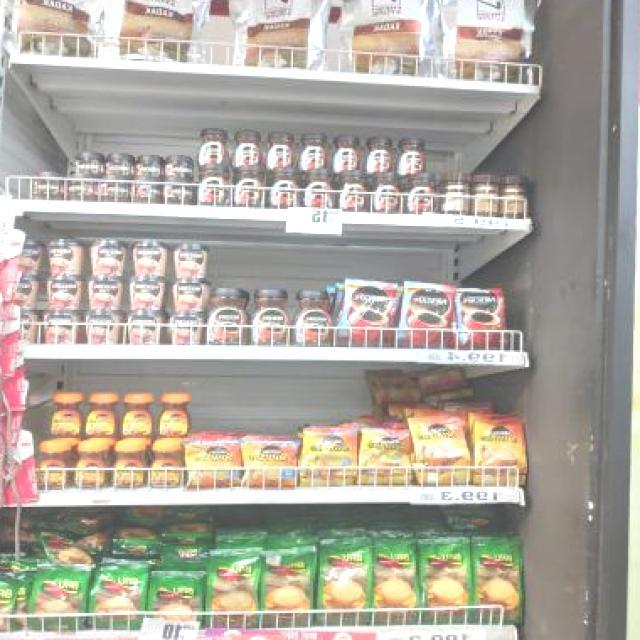Coffee: (414, 420, 470, 486), (473, 418, 526, 485), (340, 282, 394, 345), (398, 285, 452, 347), (304, 427, 356, 484), (456, 290, 504, 350), (360, 428, 410, 484), (245, 438, 299, 485), (206, 288, 250, 345), (292, 288, 335, 346), (250, 288, 292, 344), (189, 439, 239, 486), (108, 440, 146, 490), (73, 441, 109, 490), (37, 440, 72, 488), (148, 439, 182, 487), (196, 163, 232, 206), (300, 168, 338, 208), (121, 394, 155, 438), (86, 395, 120, 437), (158, 396, 191, 438), (51, 394, 82, 438), (266, 167, 300, 207), (406, 172, 438, 214), (234, 164, 265, 207), (372, 171, 403, 211), (338, 171, 368, 211), (396, 136, 429, 171), (331, 135, 362, 172), (266, 131, 297, 167), (364, 136, 394, 172), (200, 126, 228, 164), (300, 132, 328, 168), (235, 128, 262, 164), (162, 178, 192, 204), (100, 176, 131, 201), (65, 174, 97, 198), (164, 156, 196, 177), (133, 179, 160, 202), (32, 174, 58, 197), (136, 154, 160, 178), (106, 154, 134, 174), (74, 152, 100, 173)
